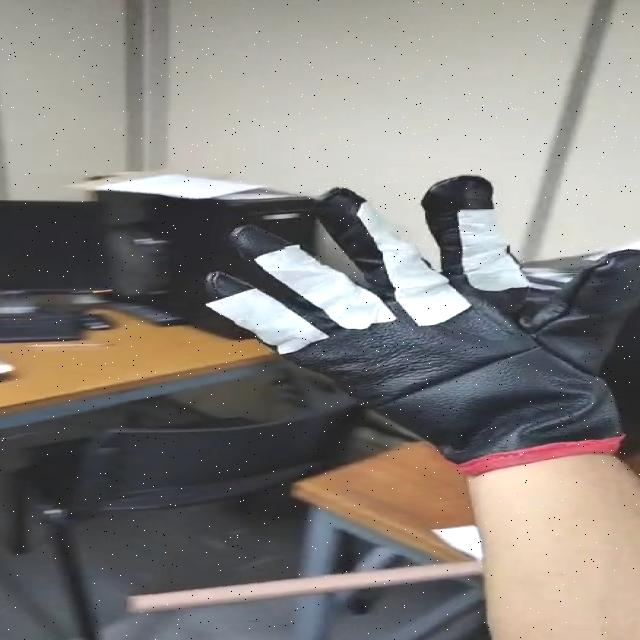Gloves: (200, 171, 640, 459)
